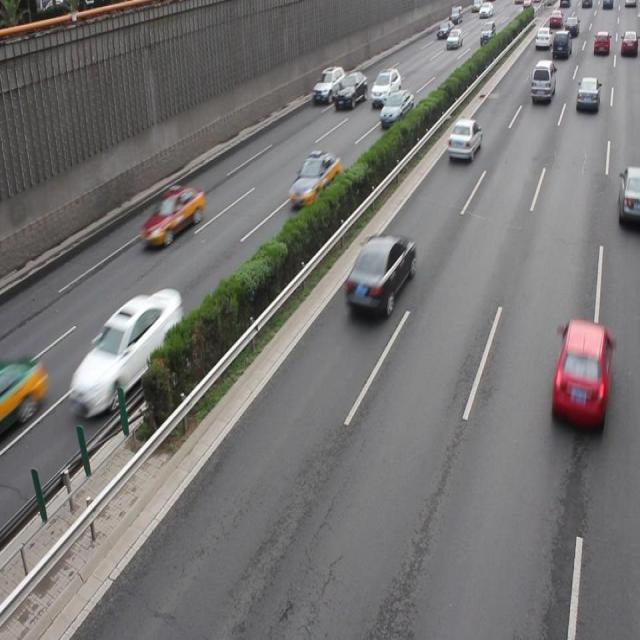car: (68, 286, 182, 420), (549, 319, 612, 430), (344, 233, 415, 317), (140, 184, 204, 249), (287, 150, 340, 208), (446, 116, 481, 164), (616, 166, 640, 226), (379, 90, 413, 128)
